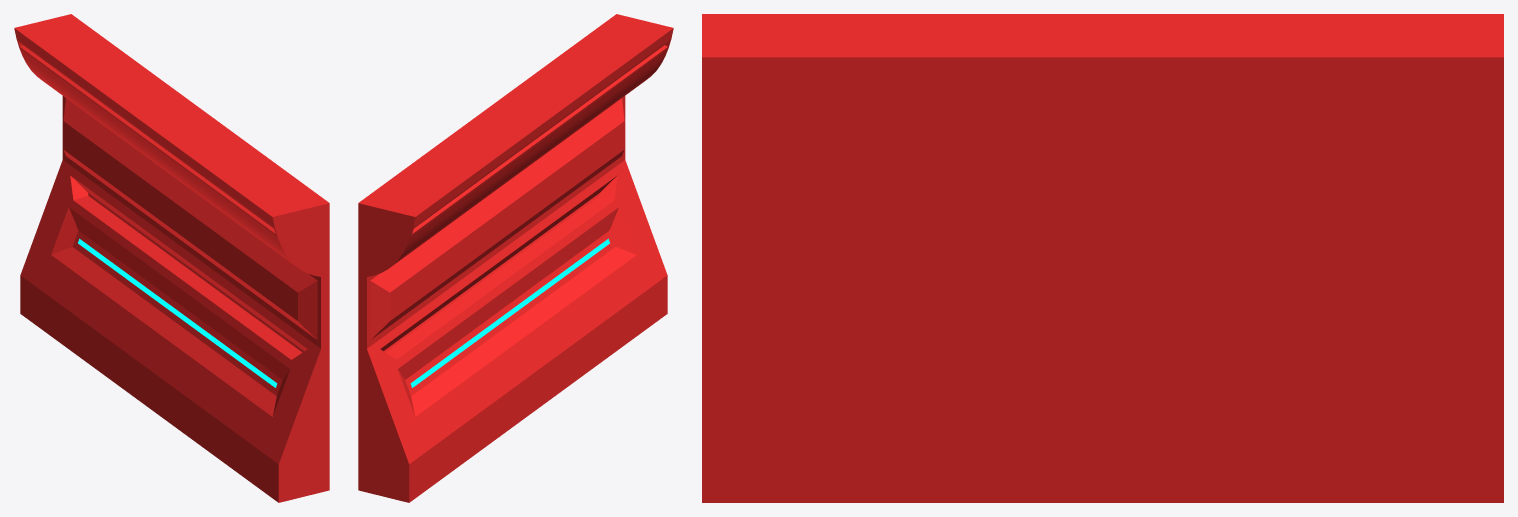
Rendered from mur cool.fbx.
3 renders of one model, left to right at view 1: azimuth 30°, elevation 25°; view 2: azimuth 150°, elevation 25°; view 3: azimuth 270°, elevation 25°, orthographic. The views are drawn at different scales.
Visible parts, largest first — view 1: Box001; view 2: Box001; view 3: Box001.
Boxes of the visible parts, x1,y1,x2,y2 form: Box001: (14,14,329,502); Box001: (358,14,673,502); Box001: (702,14,1503,502).
Bounding box in the file's own units: 1.79 × 8.61 × 14.03.
